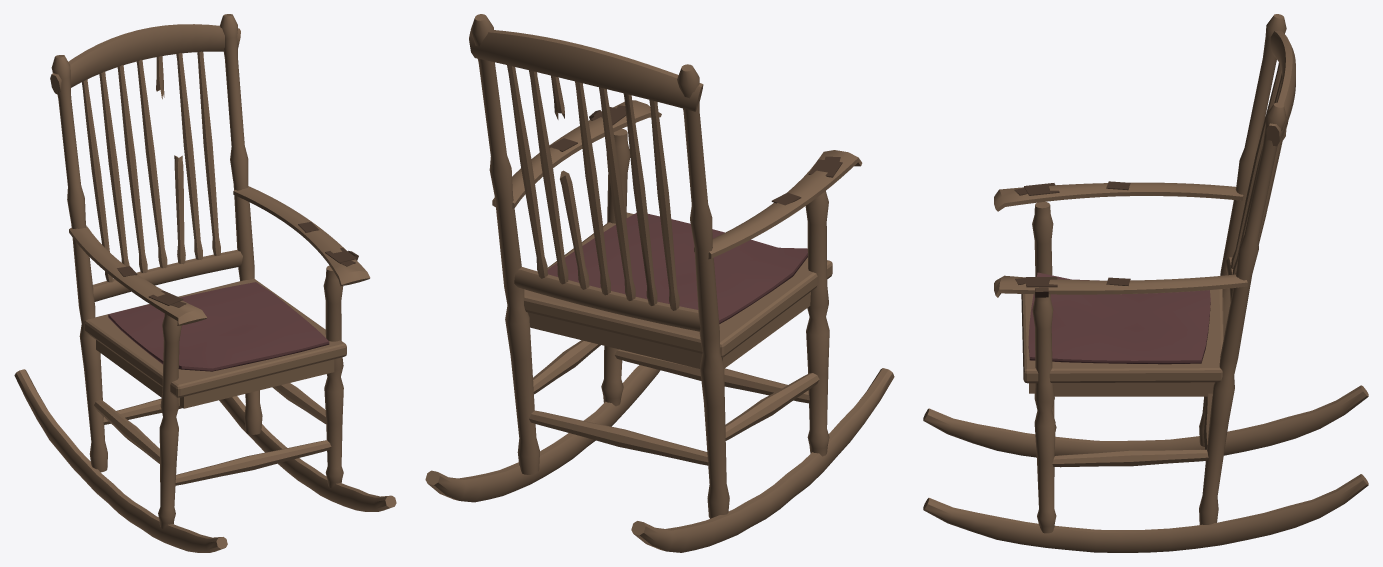
Rendered from rocking_chair.glb.
3 views of the same model, side by side, from view 1: azimuth 30°, elevation 25°; view 2: azimuth 150°, elevation 25°; view 3: azimuth 270°, elevation 25° (orthographic). The views are drawn at different scales.
Visible parts, largest first — view 1: MOV_rocking_chair_body; view 2: MOV_rocking_chair_body; view 3: MOV_rocking_chair_body.
Boxes of the visible parts, left/top/right/bottom form: MOV_rocking_chair_body: left=14, top=14, right=396, bottom=552; MOV_rocking_chair_body: left=425, top=14, right=894, bottom=552; MOV_rocking_chair_body: left=923, top=14, right=1368, bottom=552.
Size of the model in its own units: 0.5717 by 1.1 by 0.9951.
